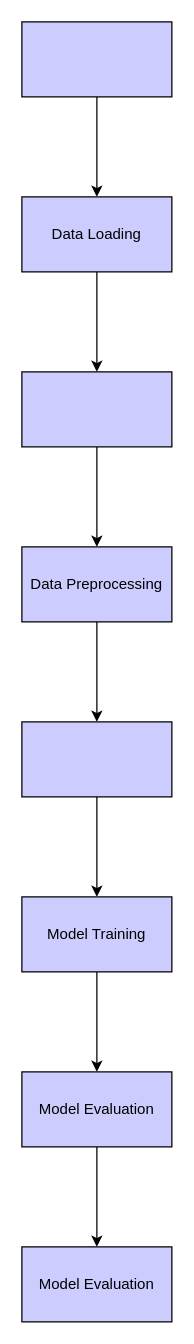
Image size: 194x1344. Some labels were removed from this diagram. Here are the shapes that lost their labels. From the top down, the box of each, then its label:
(21, 21, 172, 97): Dataset Selection
(21, 371, 172, 447): Data Inspection
(21, 721, 172, 797): Train / Test Split
